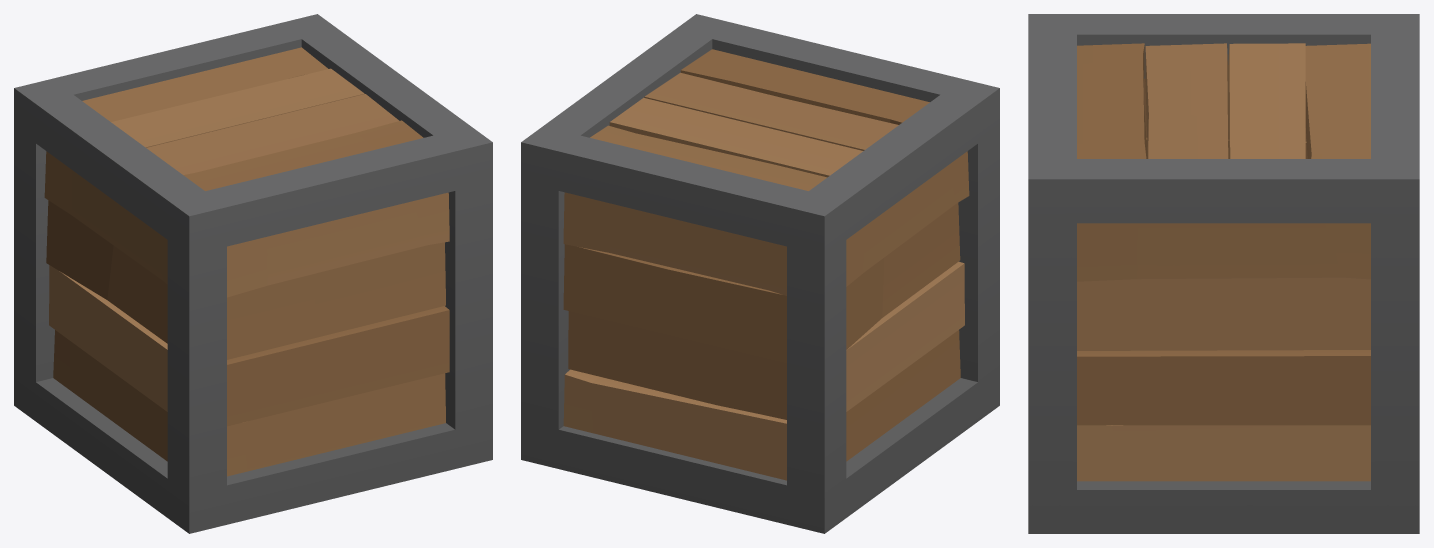
The model's file is Box_Wood_Steel_A.fbx.
3 views of the same model, side by side, from view 1: azimuth 30°, elevation 25°; view 2: azimuth 150°, elevation 25°; view 3: azimuth 270°, elevation 25° (orthographic). The views are drawn at different scales.
Parts seen in each view (by area): view 1: Box_Wood_Steel_A; view 2: Box_Wood_Steel_A; view 3: Box_Wood_Steel_A.
Boxes of the visible parts, x1,y1,x2,y2 form: Box_Wood_Steel_A: (14, 14, 492, 533); Box_Wood_Steel_A: (521, 14, 999, 533); Box_Wood_Steel_A: (1028, 14, 1419, 533).
Size of the model in its own units: 71.97 by 71.97 by 71.97.
